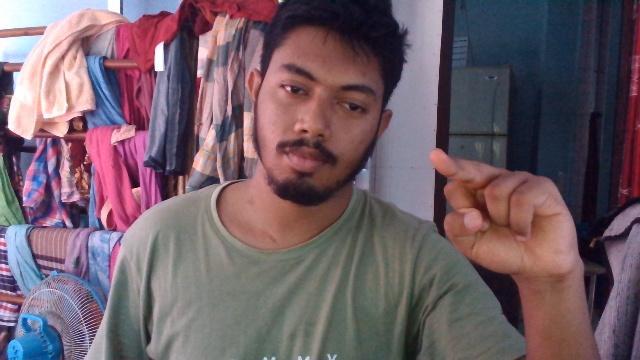fucku: (423, 138, 596, 285)
